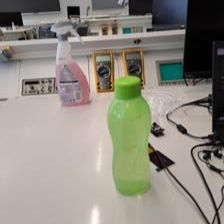bottle: (106, 75, 155, 196)
